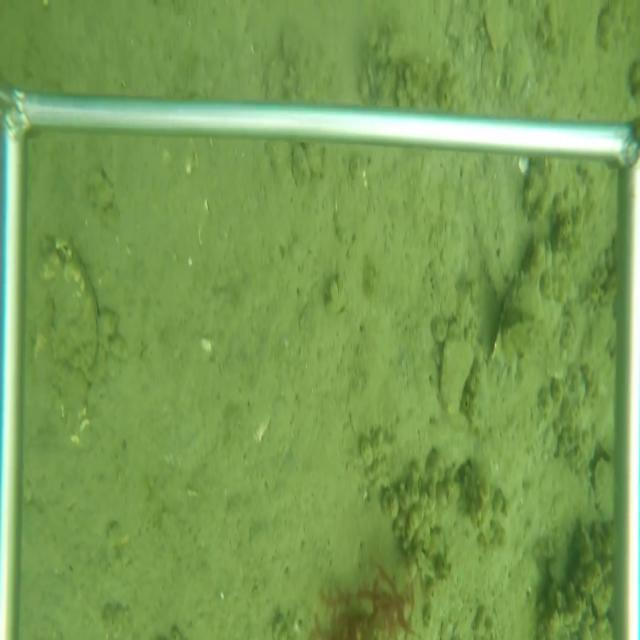Oyster-Closed: (38, 231, 101, 391)
Oyster-Indeterminate: (462, 236, 570, 453), (480, 3, 516, 58)
